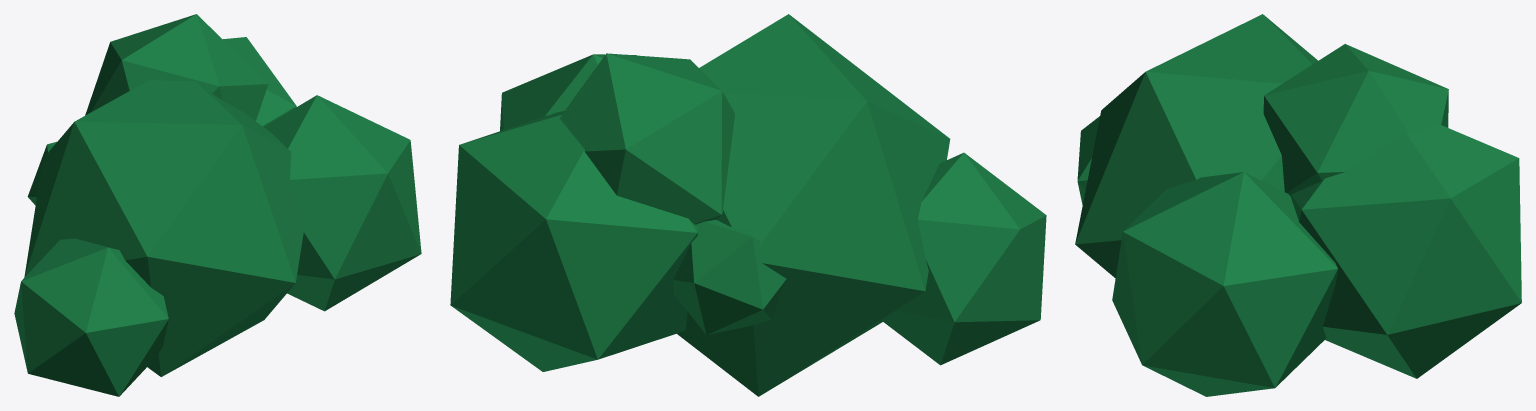
The model's file is spring_bush_1.fbx.
3 views of the same model, side by side, from view 1: azimuth 30°, elevation 25°; view 2: azimuth 150°, elevation 25°; view 3: azimuth 270°, elevation 25° (orthographic). The views are drawn at different scales.
Visible parts, largest first — view 1: rock_1, rock.004, rock.002, rock.006, rock.005, rock.007; view 2: rock_1, rock.005, rock.002, rock.006, rock.007, rock.004; view 3: rock.005, rock.004, rock_1, rock.006, rock.002.
Part boxes in pixels (<box>): rock_1: <box>24,80,304,376</box>; rock.004: <box>264,95,421,311</box>; rock.002: <box>14,238,168,396</box>; rock.006: <box>85,14,268,121</box>; rock.005: <box>223,37,296,126</box>; rock.007: <box>27,141,56,205</box>; rock_1: <box>677,14,950,396</box>; rock.005: <box>450,110,697,371</box>; rock.002: <box>881,152,1046,365</box>; rock.006: <box>560,53,734,224</box>; rock.007: <box>673,220,786,335</box>; rock.004: <box>500,54,636,130</box>; rock.005: <box>1290,124,1521,378</box>; rock.004: <box>1112,172,1337,396</box>; rock_1: <box>1075,14,1317,278</box>; rock.006: <box>1263,44,1448,195</box>; rock.002: <box>1077,116,1099,204</box>.
Bounding box in the file's own units: 6.41 × 3.94 × 5.27.
